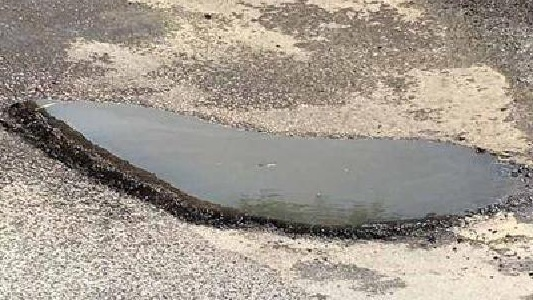pothole: (3, 93, 532, 243)
